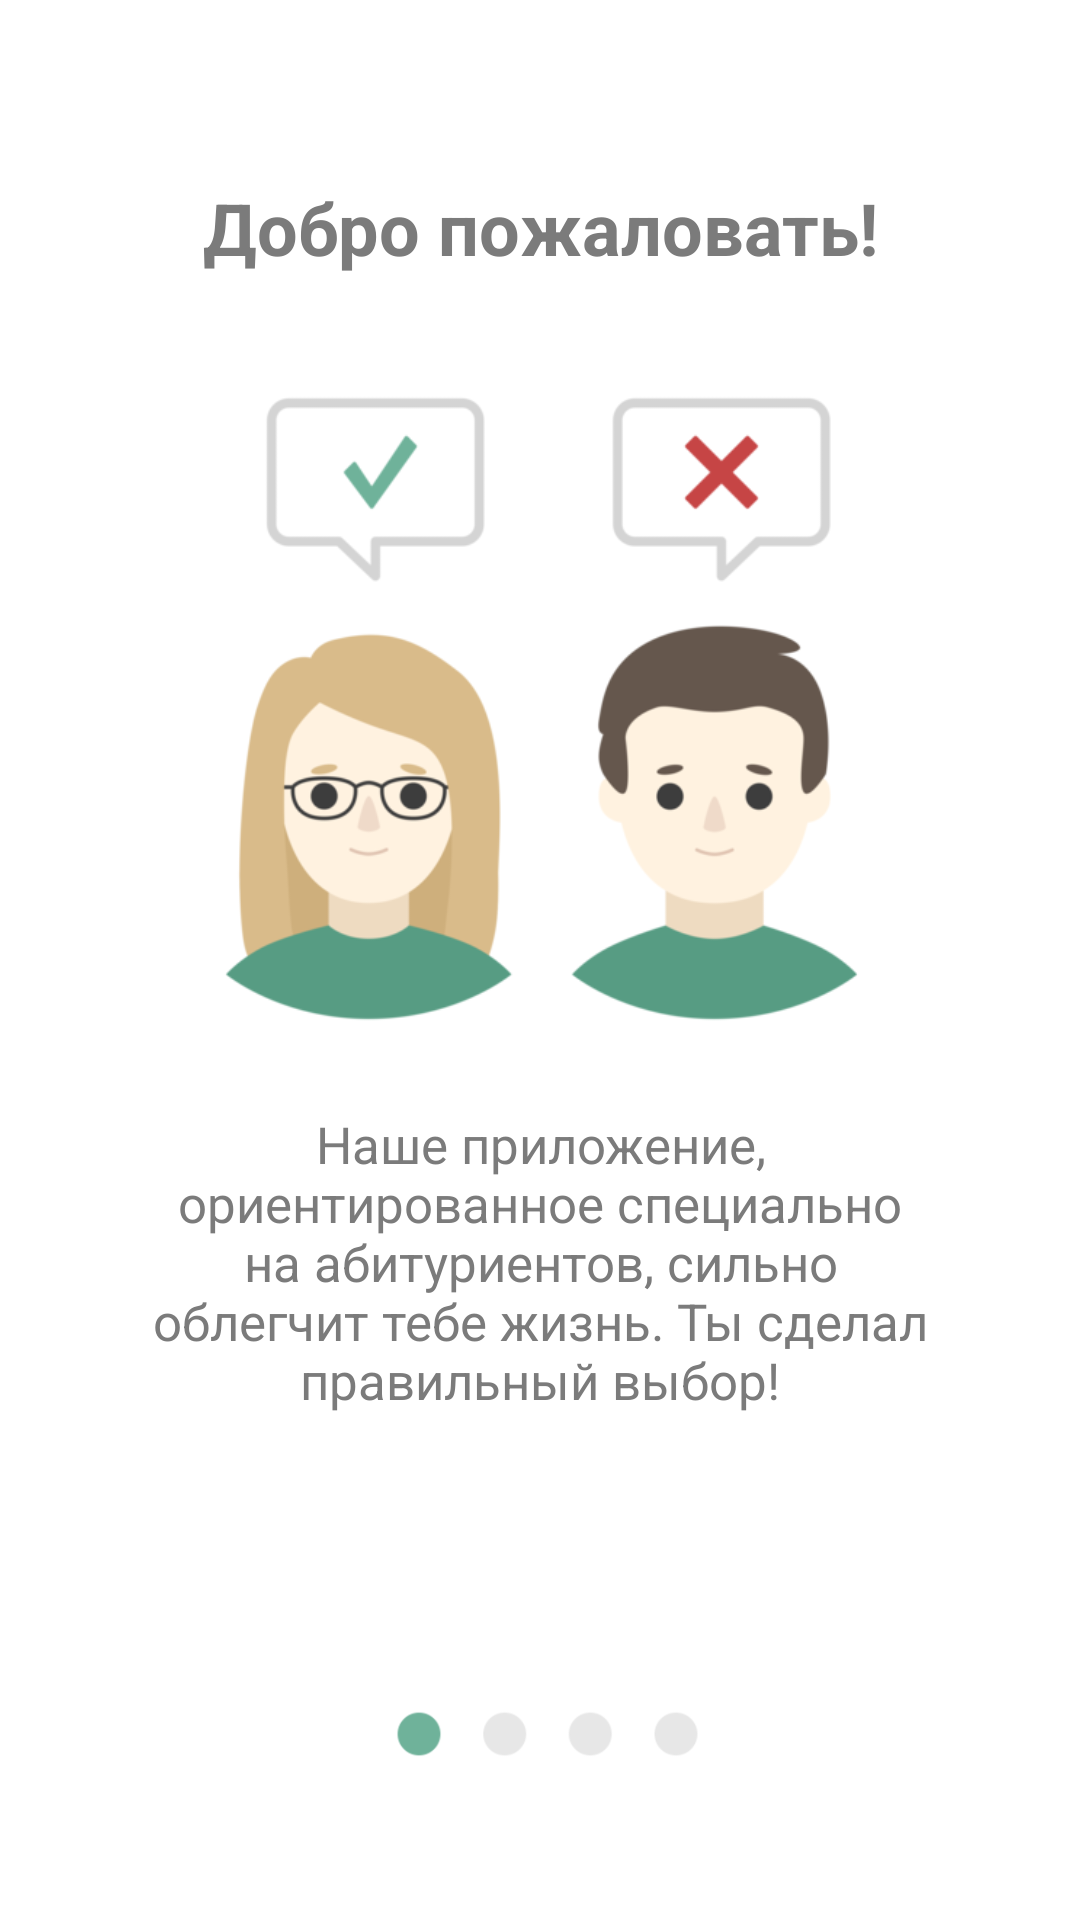

Icon click points for this 1080*1920 phone screenshot, format [x,y]:
dots: [526,1734]
